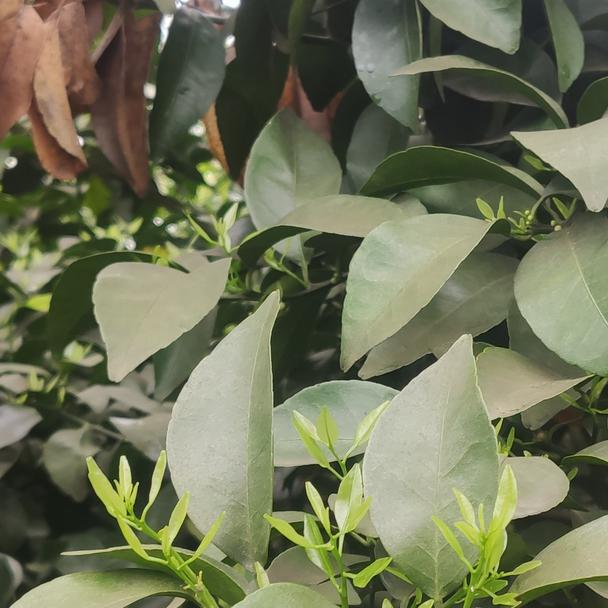shoot: (89, 456, 214, 585), (274, 488, 390, 605), (445, 477, 524, 600)
